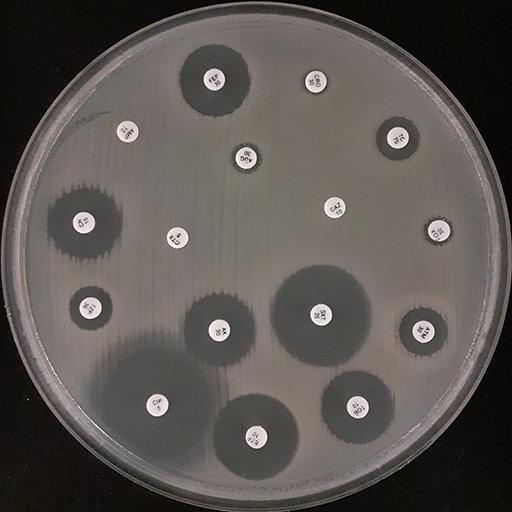disc: (203, 68, 226, 91), (305, 70, 328, 93), (116, 120, 139, 143), (235, 147, 258, 170), (208, 319, 231, 342), (412, 320, 435, 343), (146, 394, 169, 417), (245, 426, 268, 449), (347, 396, 370, 419), (387, 127, 410, 149), (73, 212, 96, 234), (166, 227, 189, 249), (323, 197, 346, 219), (428, 220, 451, 242), (79, 297, 102, 319), (310, 304, 333, 326)
